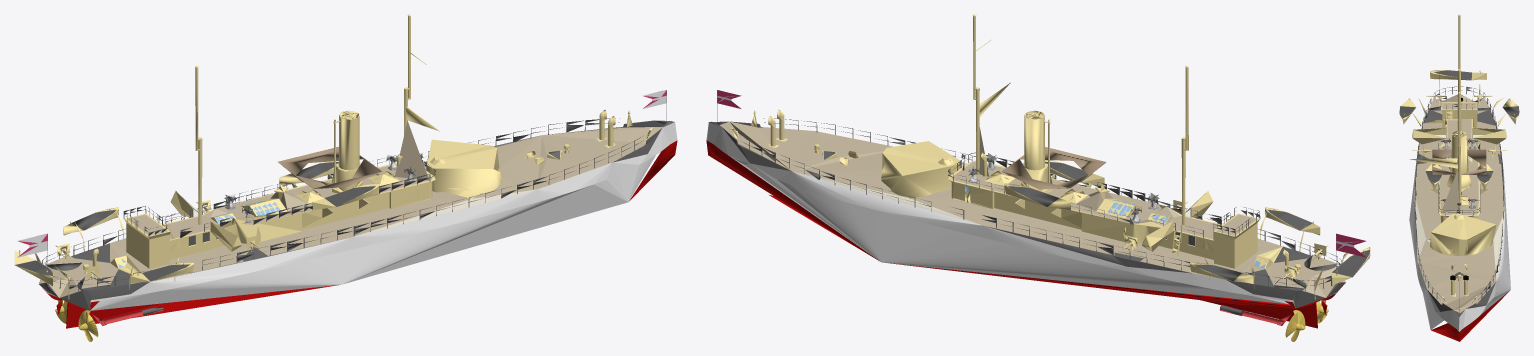
Rendered from hdms-gorm.glb.
3 views of the same model, side by side, from view 1: azimuth 30°, elevation 25°; view 2: azimuth 150°, elevation 25°; view 3: azimuth 270°, elevation 25° (orthographic). The views are drawn at different scales.
Visible parts, largest first — view 1: ID6299; view 2: ID6299; view 3: ID6299.
Boxes of the visible parts, x1,y1,x2,y2 form: ID6299: [14, 14, 677, 341]; ID6299: [706, 14, 1370, 341]; ID6299: [1399, 14, 1519, 341].
Bounding box in the file's own units: 75.09 × 25.85 × 15.92.
